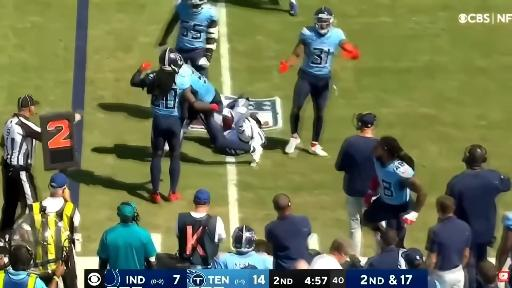Helmet: (159, 48, 184, 73), (232, 226, 255, 252), (314, 7, 333, 34), (238, 118, 255, 143), (188, 0, 207, 13)
Jersey: (300, 27, 345, 76), (176, 1, 217, 50), (375, 160, 414, 205), (144, 71, 182, 116), (176, 65, 216, 103), (214, 252, 273, 269), (223, 107, 249, 128), (250, 127, 266, 146), (502, 212, 511, 230)
Player: (131, 48, 218, 203), (280, 7, 359, 156), (176, 65, 262, 164), (363, 136, 426, 247), (158, 0, 218, 78), (213, 226, 272, 269), (225, 114, 266, 147), (223, 95, 250, 131), (506, 283, 511, 287)
